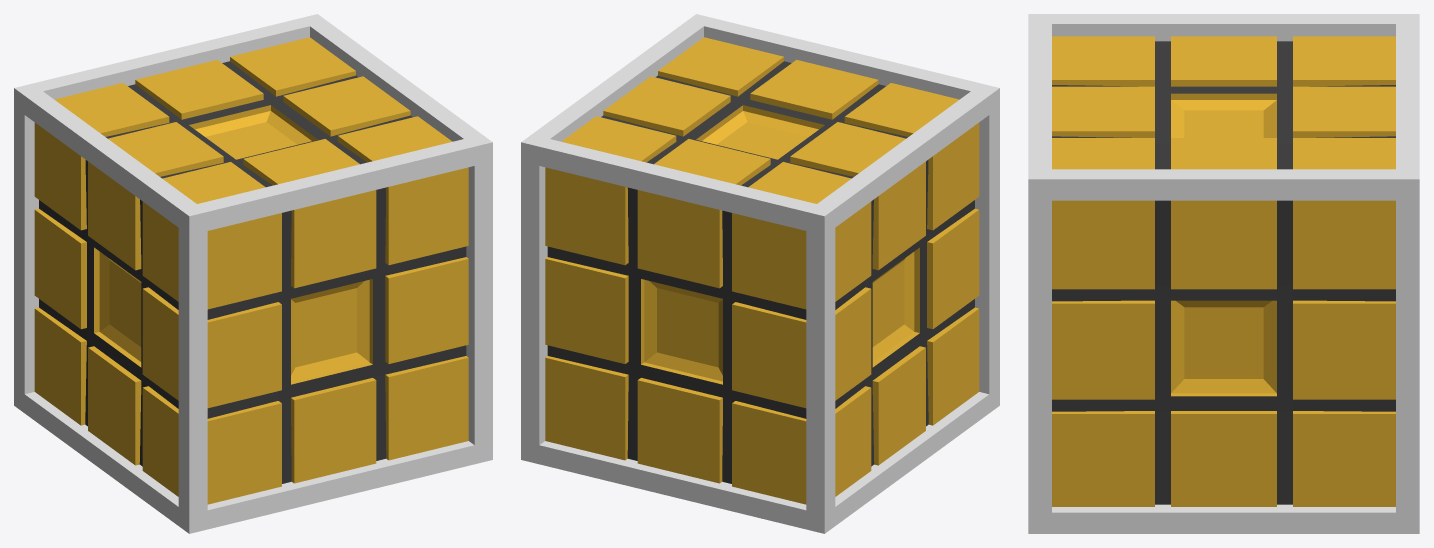
Rendered from BatteryBank.fbx.
3 renders of one model, left to right at view 1: azimuth 30°, elevation 25°; view 2: azimuth 150°, elevation 25°; view 3: azimuth 270°, elevation 25°, orthographic. The views are drawn at different scales.
Parts seen in each view (by area): view 1: BatteryBank; view 2: BatteryBank; view 3: BatteryBank.
Boxes of the visible parts, x1,y1,x2,y2 form: BatteryBank: [14, 14, 492, 533]; BatteryBank: [521, 14, 999, 533]; BatteryBank: [1028, 14, 1419, 533].
Bounding box in the file's own units: 58.95 × 58.95 × 58.95.
